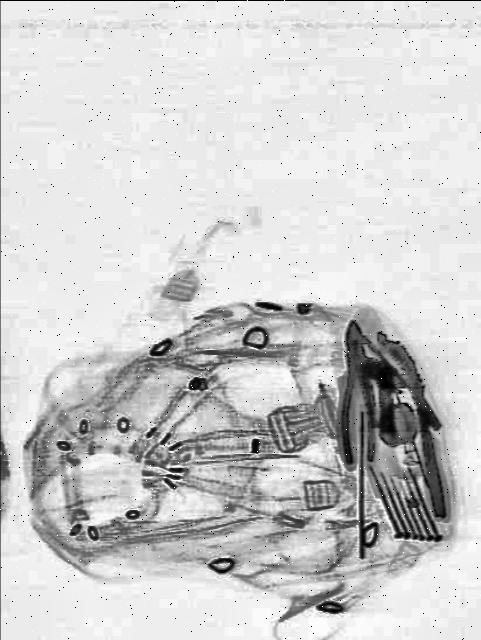Pliers: (332, 317, 376, 463)
